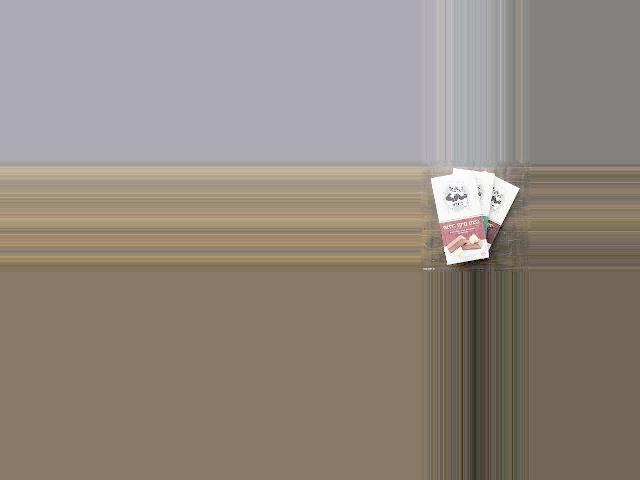chocolate: (460, 168, 520, 264)
